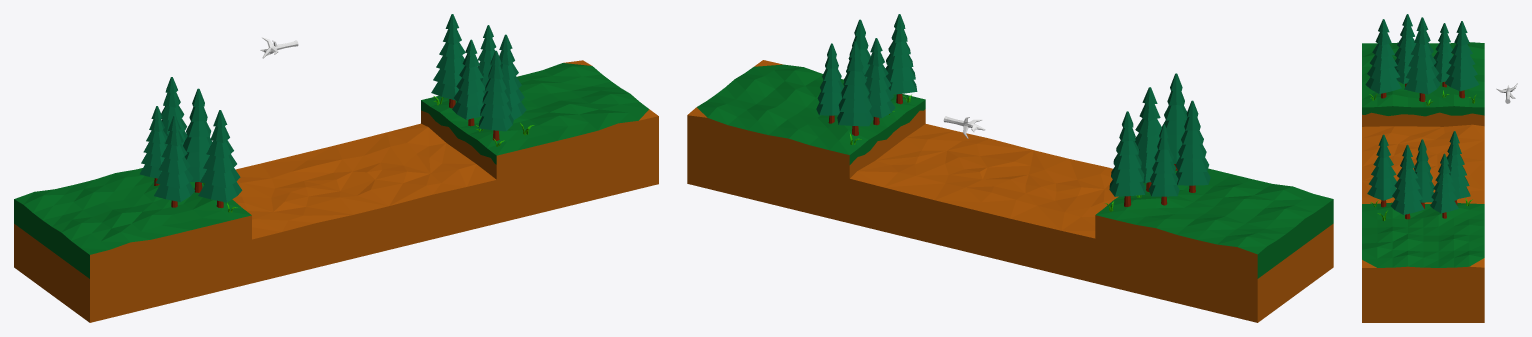
File: Ground_1_Forest_2.fbx
3 renders of one model, left to right at view 1: azimuth 30°, elevation 25°; view 2: azimuth 150°, elevation 25°; view 3: azimuth 270°, elevation 25°, orthographic. The views are drawn at different scales.
Visible parts, largest first — view 1: Icosphere.004; view 2: Icosphere.004; view 3: Icosphere.004, Snow Long Snow Tree.002.
Part boxes in pixels (x1,y1,x2,y2): Icosphere.004: (14,14,658,322); Icosphere.004: (687,14,1333,322); Icosphere.004: (1362,14,1484,322); Snow Long Snow Tree.002: (1496,83,1517,103).
Size of the model in its own units: 11593 by 3327 by 3401.
